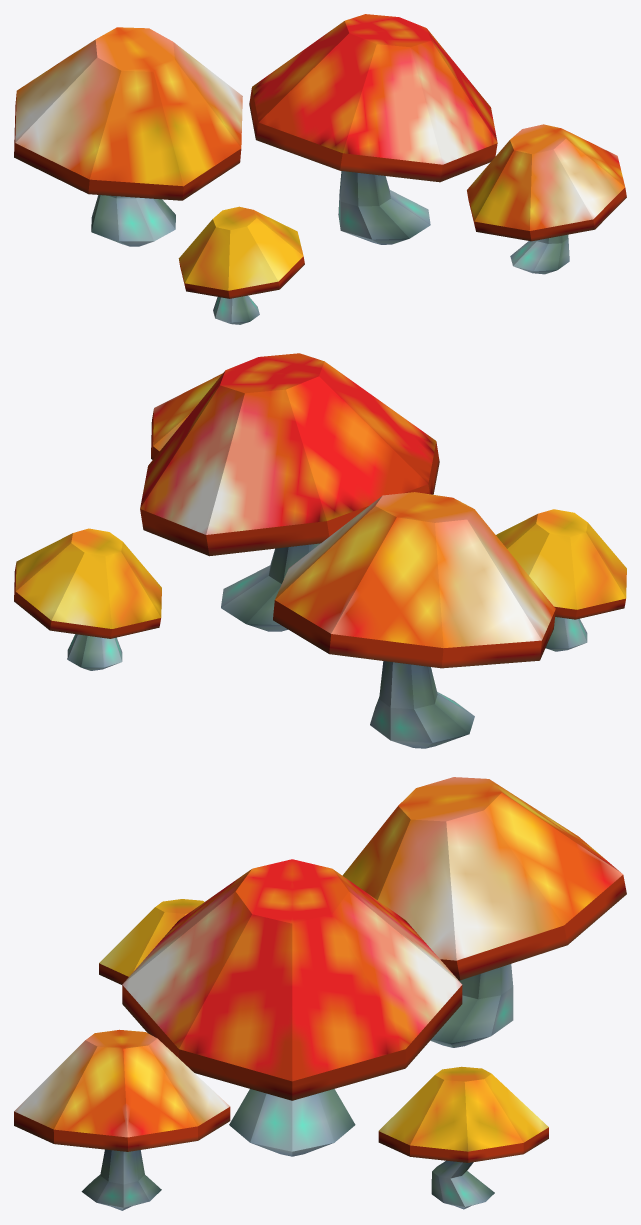
File: Poly_Mushroom_02.obj
The picture shows the model from 3 angles, top to bottom: view 1: azimuth 30°, elevation 25°; view 2: azimuth 150°, elevation 25°; view 3: azimuth 270°, elevation 25°; orthographic projection. The views are drawn at different scales.
Visible parts, largest first — view 1: Cube; view 2: Cube; view 3: Cube.
Part boxes in pixels (box(x1,y1,x2,y2)): Cube: box(14, 14, 626, 324); Cube: box(14, 353, 626, 748); Cube: box(14, 777, 626, 1210).
Bounding box in the file's own units: 0.8537 × 0.3872 × 0.782.
1 material, 1 textured.
